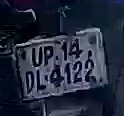1: (62, 59, 73, 86), (59, 43, 70, 61)
2: (83, 58, 98, 84), (71, 59, 84, 83)
4: (49, 63, 64, 91), (69, 39, 83, 60)
D: (23, 67, 36, 95)
L: (35, 68, 45, 92)
P: (43, 45, 54, 68)
U: (29, 45, 44, 67)
